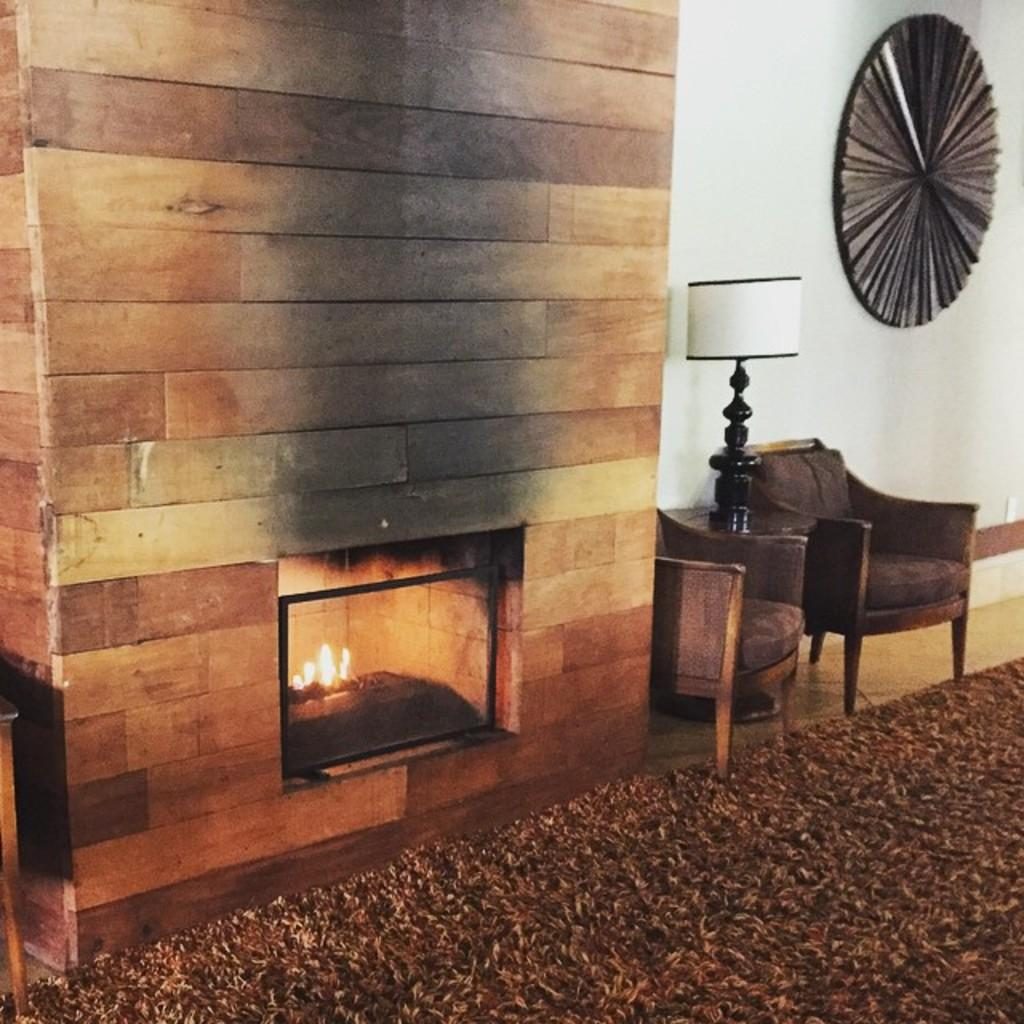Fire: (287, 622, 348, 701)
